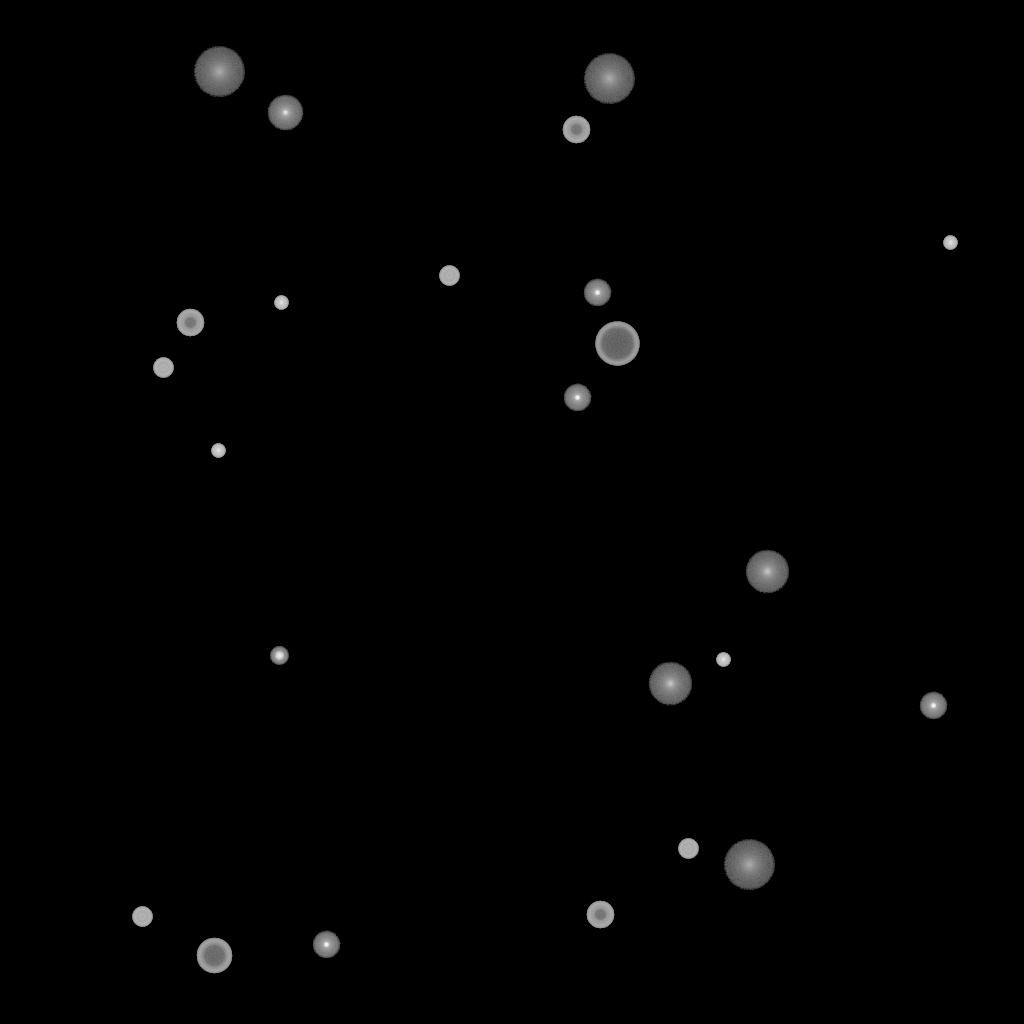depth:-10: (919, 692, 947, 720), (563, 384, 591, 412), (583, 279, 611, 307), (312, 931, 340, 959)
depth:-20: (270, 647, 288, 665)
depth:-30: (716, 653, 730, 667), (211, 444, 225, 458), (274, 296, 288, 310), (943, 236, 957, 250)
depth:-40: (153, 358, 173, 378), (132, 907, 152, 927), (439, 266, 459, 286), (678, 839, 698, 859)
depth:-50: (176, 309, 204, 337), (586, 901, 614, 929), (562, 116, 590, 144)
depth:-60: (196, 938, 232, 974)
depth:-70: (595, 322, 639, 366)
depth:0: (267, 95, 303, 131)
depth:10: (648, 662, 692, 706), (745, 550, 789, 594)
depth:20: (723, 840, 775, 890), (583, 54, 635, 104), (193, 47, 245, 97)
